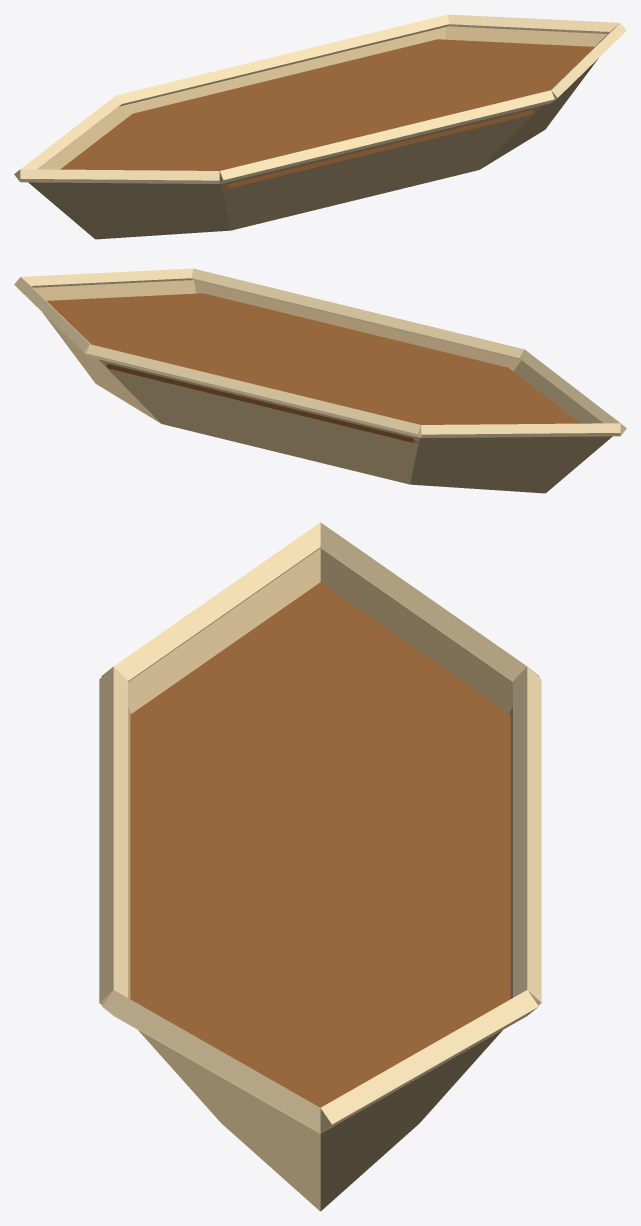
3 renders of one model, top to bottom at view 1: azimuth 30°, elevation 25°; view 2: azimuth 150°, elevation 25°; view 3: azimuth 270°, elevation 25°, orthographic. The views are drawn at different scales.
Visible parts, largest first — view 1: 折纸船壳与内甲板.001; view 2: 折纸船壳与内甲板.001; view 3: 折纸船壳与内甲板.001.
Boxes of the visible parts, x1=… form: 折纸船壳与内甲板.001: x1=14, y1=14, x2=626, y2=239; 折纸船壳与内甲板.001: x1=14, y1=268, x2=626, y2=493; 折纸船壳与内甲板.001: x1=99, y1=522, x2=541, y2=1211.
Bounding box in the file's own units: 1.36 × 0.189 × 0.428.
